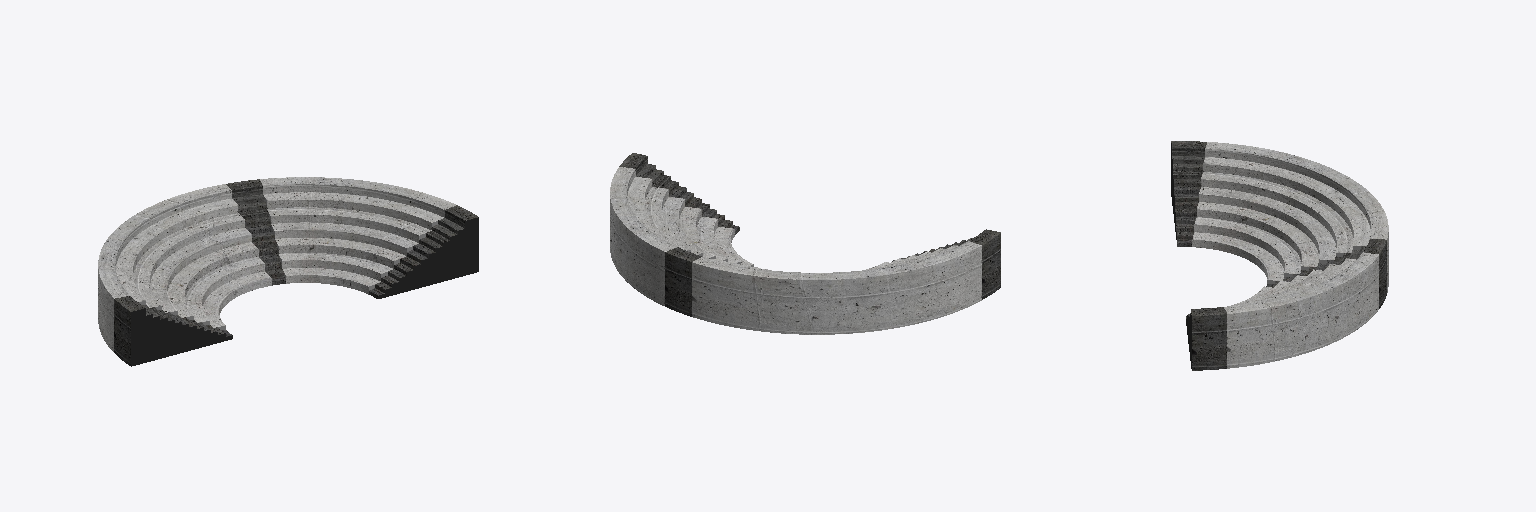
3 renders of one model, left to right at view 1: azimuth 30°, elevation 25°; view 2: azimuth 150°, elevation 25°; view 3: azimuth 270°, elevation 25°, orthographic.
Parts seen in each view (by area): view 1: Amphitheater_Lathe_NURBS_Seats_2, Amphitheater_Lathe_NURBS_Seats, Amphitheater_Lathe_NURBS_Stairs_3_Deckfl_che_21, Amphitheater_Lathe_NURBS_Stairs_Deckfl_che_13, Amphitheater_Lathe_NURBS_Stairs_2, Amphitheater_Lathe_NURBS_Stairs, Amphitheater_Lathe_NURBS_Stairs_3; view 2: Amphitheater_Lathe_NURBS_Seats_2, Amphitheater_Lathe_NURBS_Seats, Amphitheater_Lathe_NURBS_Stairs_2, Amphitheater_Lathe_NURBS_Stairs, Amphitheater_Lathe_NURBS_Stairs_3; view 3: Amphitheater_Lathe_NURBS_Seats_2, Amphitheater_Lathe_NURBS_Seats, Amphitheater_Lathe_NURBS_Stairs_3, Amphitheater_Lathe_NURBS_Stairs, Amphitheater_Lathe_NURBS_Stairs_2.
Boxes of the visible parts, box(x1,y1,x2,y2) form: Amphitheater_Lathe_NURBS_Seats_2: box(98, 184, 271, 351); Amphitheater_Lathe_NURBS_Seats: box(260, 177, 455, 294); Amphitheater_Lathe_NURBS_Stairs_3_Deckfl_che_21: box(131, 308, 232, 366); Amphitheater_Lathe_NURBS_Stairs_Deckfl_che_13: box(378, 217, 478, 298); Amphitheater_Lathe_NURBS_Stairs_2: box(226, 179, 285, 285); Amphitheater_Lathe_NURBS_Stairs: box(369, 205, 477, 298); Amphitheater_Lathe_NURBS_Stairs_3: box(114, 296, 231, 365); Amphitheater_Lathe_NURBS_Seats_2: box(692, 241, 981, 334); Amphitheater_Lathe_NURBS_Seats: box(610, 167, 752, 305); Amphitheater_Lathe_NURBS_Stairs_2: box(665, 247, 709, 316); Amphitheater_Lathe_NURBS_Stairs: box(619, 153, 739, 234); Amphitheater_Lathe_NURBS_Stairs_3: box(892, 229, 1000, 299); Amphitheater_Lathe_NURBS_Seats_2: box(1192, 142, 1388, 292); Amphitheater_Lathe_NURBS_Seats: box(1224, 252, 1378, 368); Amphitheater_Lathe_NURBS_Stairs_3: box(1171, 141, 1206, 246); Amphitheater_Lathe_NURBS_Stairs: box(1186, 307, 1226, 370); Amphitheater_Lathe_NURBS_Stairs_2: box(1266, 239, 1386, 308).
Size of the model in its own units: 46.05 by 6.72 by 24.17.
15 materials, 3 textured.